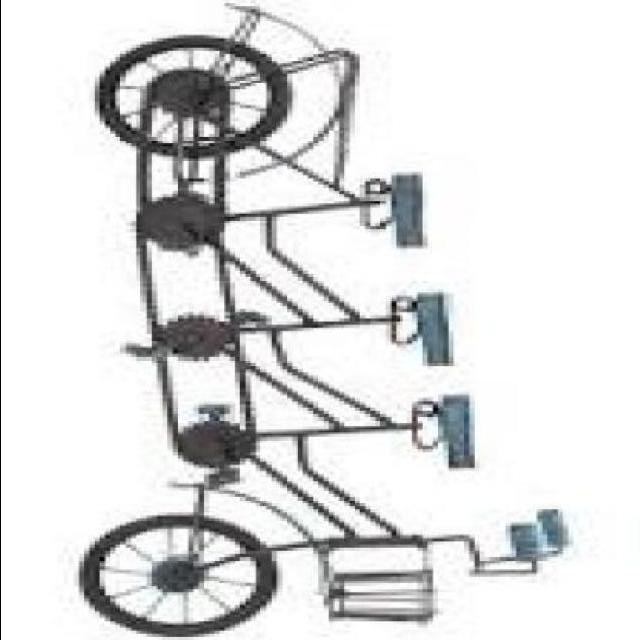bicycle: (77, 4, 579, 640)
